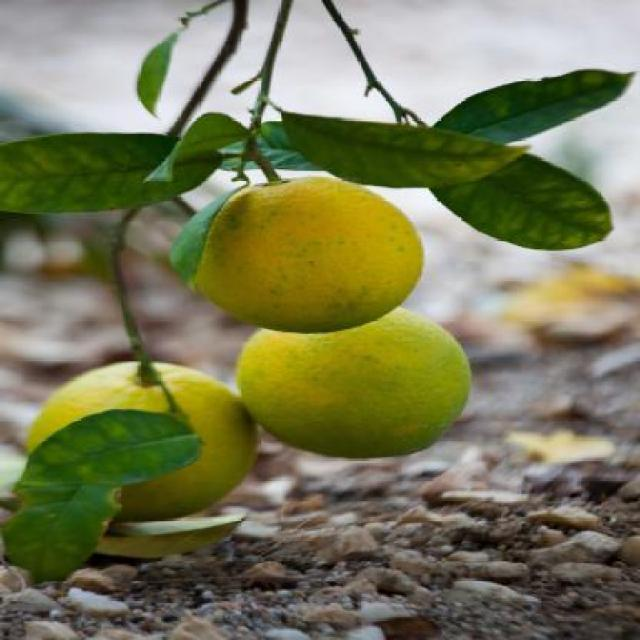Orange: (24, 358, 253, 512), (232, 313, 472, 450), (200, 182, 422, 316)
